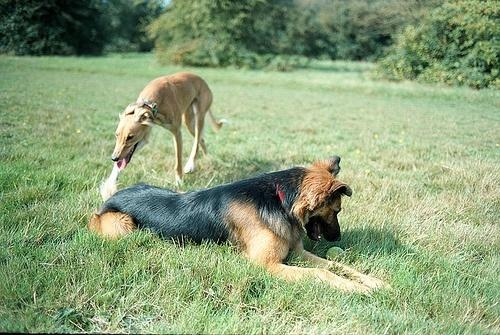dog: (84, 156, 394, 301), (100, 72, 230, 198)
